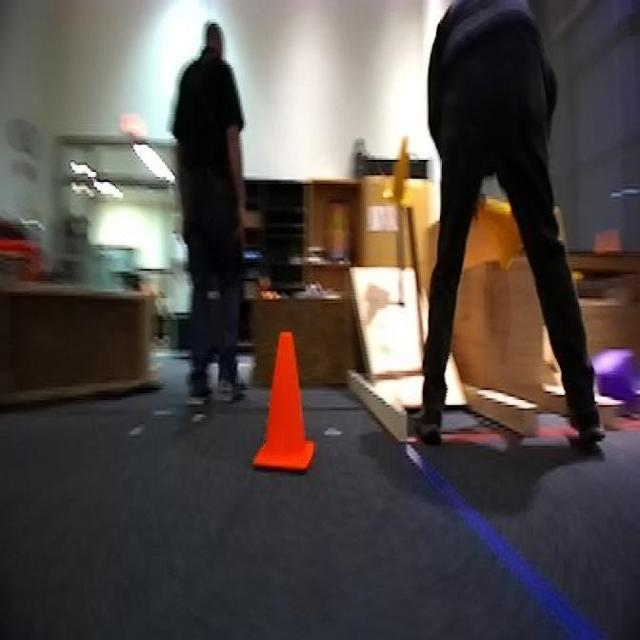frc_cone: (462, 184, 530, 276), (385, 133, 415, 204)
frc_cube: (600, 340, 634, 407)
